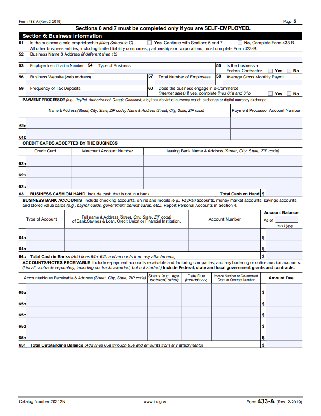checkbox: (267, 66, 274, 74), (286, 66, 293, 74), (267, 89, 274, 97), (286, 89, 293, 97), (146, 38, 153, 45), (237, 38, 244, 45)
textbox: (17, 49, 303, 63), (16, 115, 233, 130), (15, 126, 232, 141), (140, 153, 304, 169), (141, 164, 305, 180), (142, 175, 305, 190), (17, 326, 150, 342), (17, 281, 149, 297), (17, 293, 150, 308), (17, 304, 150, 319), (17, 315, 150, 330), (18, 72, 149, 86), (62, 227, 191, 241), (61, 237, 190, 251), (17, 84, 149, 97), (86, 61, 217, 74), (213, 72, 304, 86), (186, 237, 262, 253), (69, 176, 145, 191), (186, 226, 262, 241), (71, 153, 146, 168), (70, 164, 145, 179), (230, 115, 304, 130), (229, 126, 303, 141), (17, 61, 89, 74), (147, 73, 218, 86), (18, 152, 73, 167), (19, 164, 74, 179), (19, 175, 74, 190), (210, 282, 262, 297), (210, 292, 262, 307), (210, 304, 262, 319), (210, 315, 262, 330), (210, 327, 262, 342), (17, 238, 66, 253), (17, 227, 66, 241), (259, 292, 304, 307), (258, 315, 303, 330), (260, 282, 304, 297), (259, 303, 303, 318), (259, 327, 303, 342), (259, 227, 304, 241), (260, 239, 305, 253), (179, 281, 214, 298), (146, 281, 183, 297), (146, 292, 183, 308), (146, 315, 183, 331), (145, 304, 182, 319), (146, 327, 183, 342), (180, 293, 214, 309), (180, 315, 214, 331), (180, 304, 214, 319), (180, 326, 214, 341), (260, 187, 305, 198), (259, 338, 304, 349), (259, 250, 305, 260)
textline: (275, 215, 300, 223)
